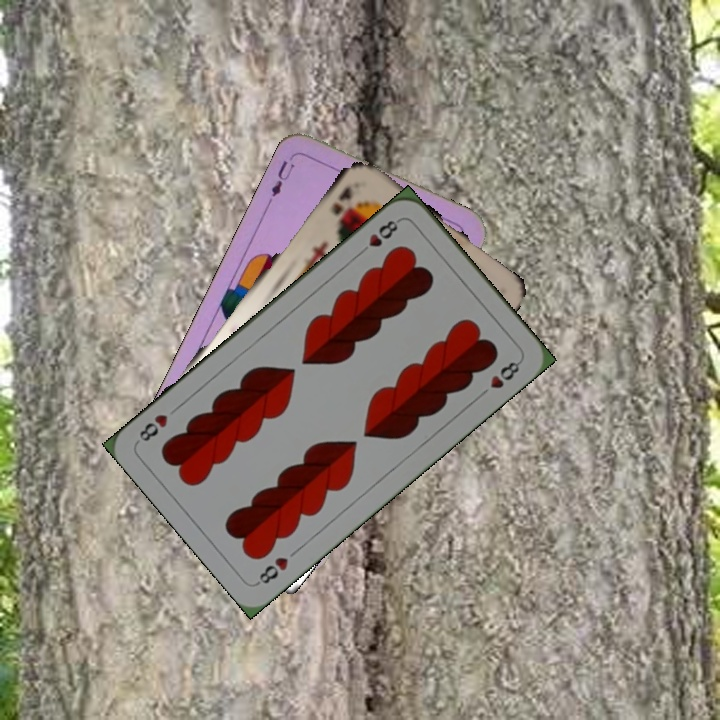EU: (267, 150, 299, 200)
H8: (354, 215, 403, 258), (253, 544, 302, 587)
SK: (327, 181, 354, 218)
